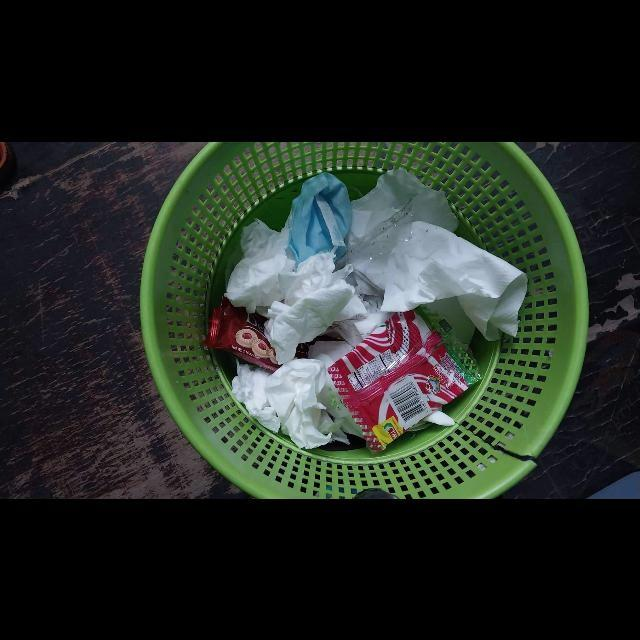food_wrapper: (328, 305, 481, 452), (205, 296, 282, 371)
paper: (380, 220, 528, 341), (264, 358, 350, 449), (224, 218, 296, 313), (264, 288, 353, 364), (278, 252, 367, 320), (231, 358, 281, 432)
